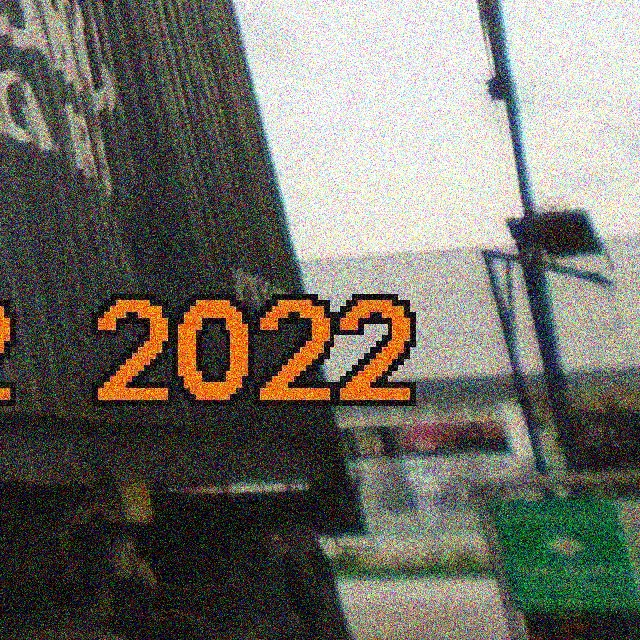Dent: (101, 124, 197, 290)
